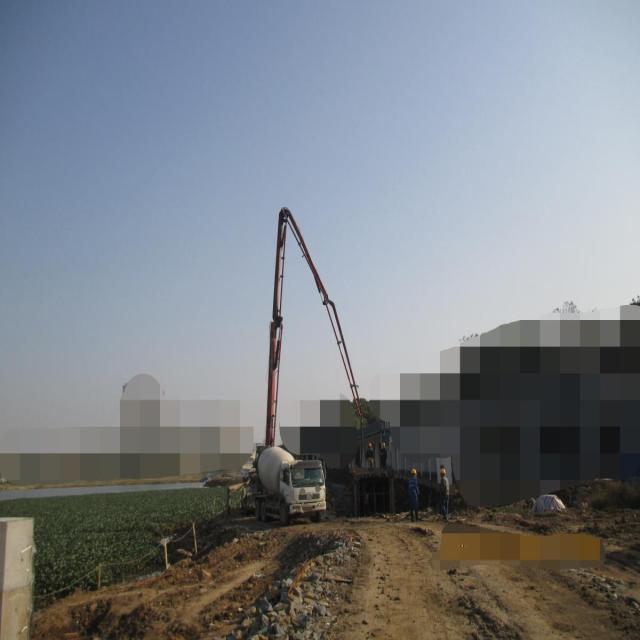truck: (249, 207, 380, 536)
